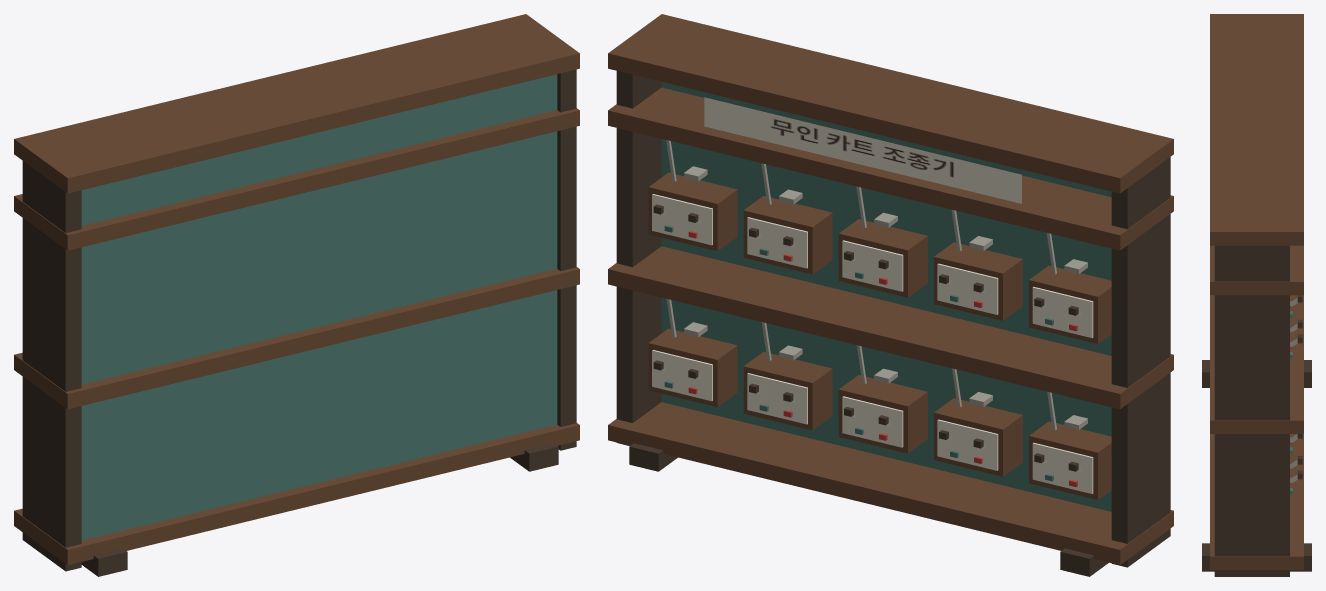
The model's file is S08_Wooden_Controller_Cabinet.fbx.
3 views of the same model, side by side, from view 1: azimuth 30°, elevation 25°; view 2: azimuth 150°, elevation 25°; view 3: azimuth 270°, elevation 25° (orthographic). The views are drawn at different scales.
Parts seen in each view (by area): view 1: Structure; view 2: Structure, Controller_06, Controller_08, Controller_07, Controller_03, Controller_01, Controller_02, Controller_09, Controller_04, Controller_10, Controller_05; view 3: Structure, Controller_06, Controller_01.
Part boxes in pixels (left/top/right/bottom): Structure: left=14, top=14, right=579, bottom=576; Structure: left=608, top=14, right=1173, bottom=576; Controller_06: left=648, top=140, right=737, bottom=251; Controller_08: left=838, top=186, right=927, bottom=297; Controller_07: left=743, top=163, right=832, bottom=274; Controller_03: left=838, top=345, right=927, bottom=453; Controller_01: left=648, top=299, right=737, bottom=407; Controller_02: left=743, top=322, right=832, bottom=430; Controller_09: left=934, top=209, right=1022, bottom=320; Controller_04: left=934, top=368, right=1022, bottom=476; Controller_10: left=1029, top=233, right=1111, bottom=343; Controller_05: left=1029, top=391, right=1111, bottom=499; Structure: left=1202, top=14, right=1311, bottom=576; Controller_06: left=1290, top=319, right=1302, bottom=359; Controller_01: left=1290, top=456, right=1302, bottom=495.
Bounding box in the file's own units: 3.85 × 2.88 × 0.82.
Materials: 7 (1 with a texture image).
